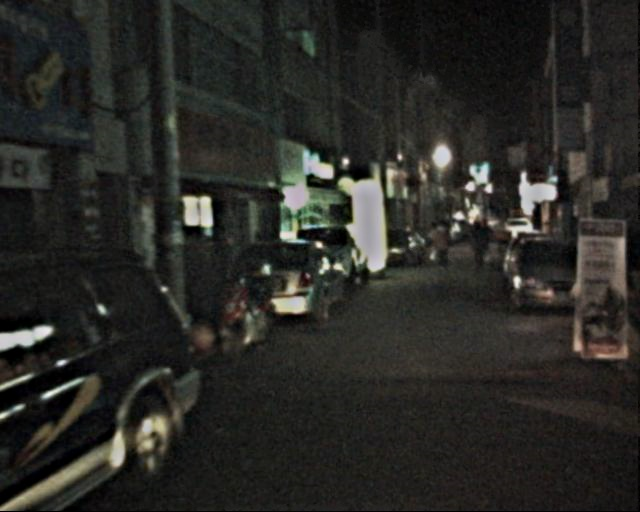person: (468, 220, 497, 272), (432, 221, 460, 272)
